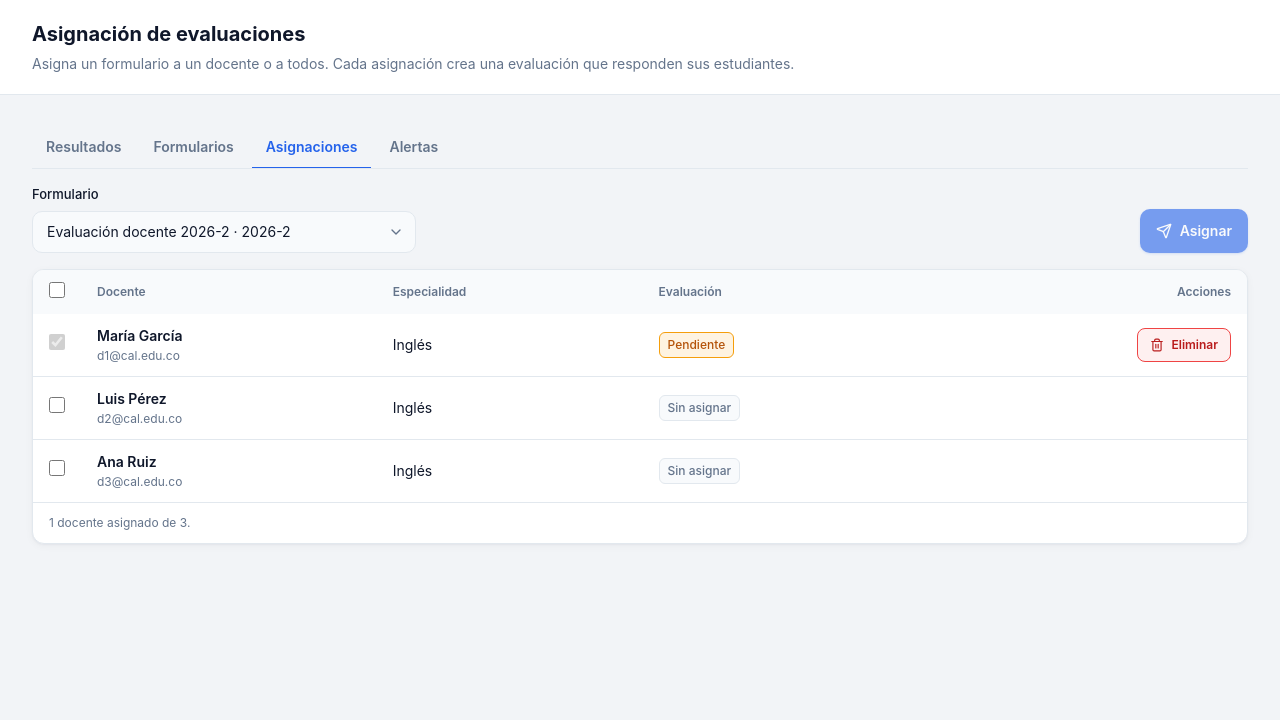
Asignación de evaluaciones (RF-31, RF-32) › elimina una evaluación tras confirmar
Click the button with aria-label "Eliminar la evaluación de María García".
click(1184, 344)  # box x1=1136 y1=328 x2=1231 y2=362
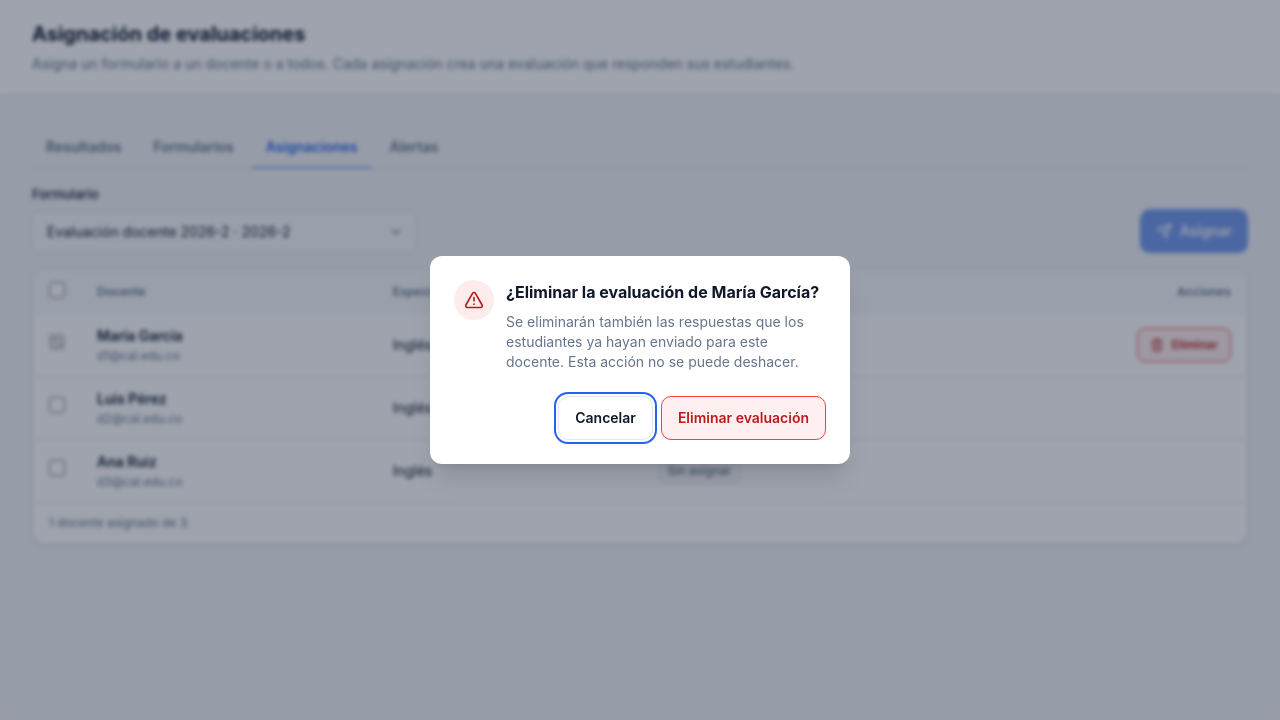
Click the button "Eliminar evaluación".
click(743, 418)  # box x1=661 y1=396 x2=826 y2=440
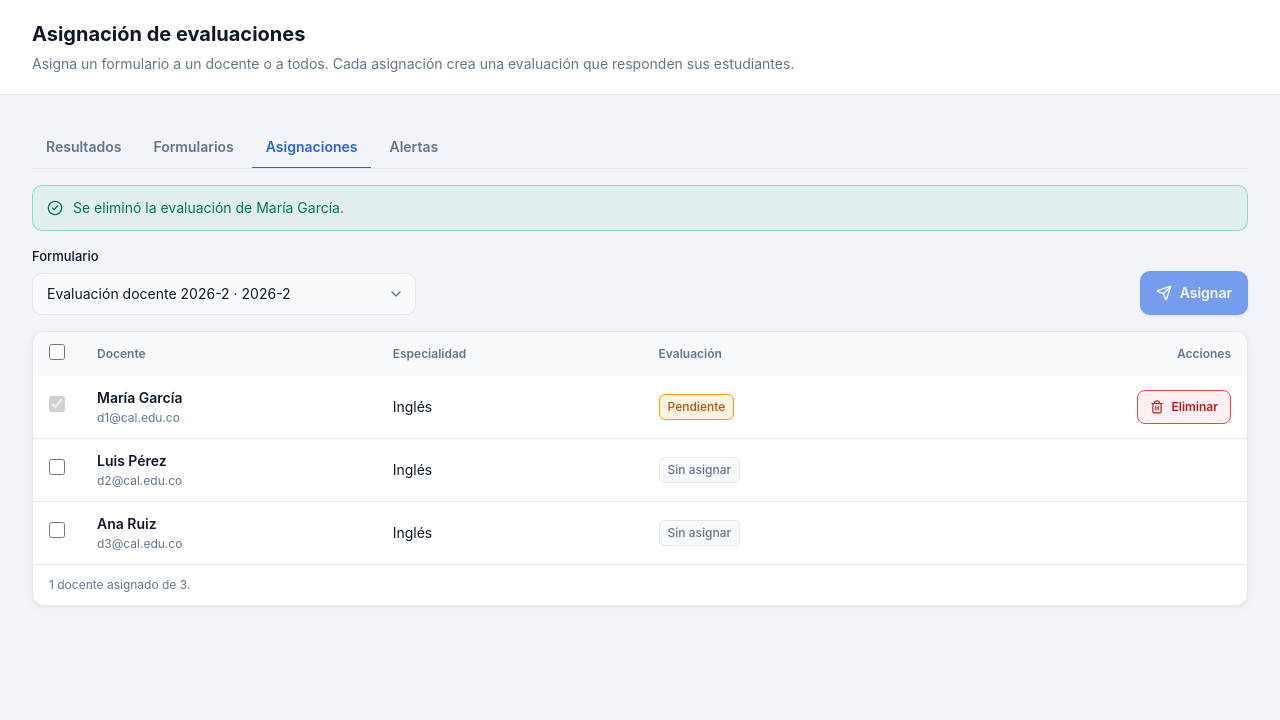
Result: the text "Se eliminó la evaluación de María García." is shown at x1=73 y1=198 x2=344 y2=218
